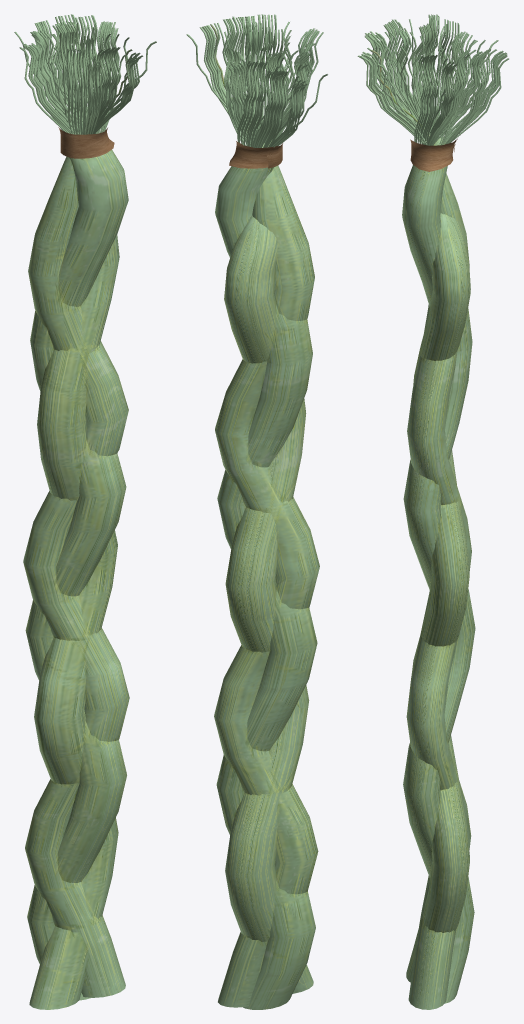
Rendered from sweet_grass.gltf.
3 renders of one model, left to right at view 1: azimuth 30°, elevation 25°; view 2: azimuth 210°, elevation 25°; view 3: azimuth 270°, elevation 25°, orthographic.
Visible parts, largest first — view 1: nurbsToPoly1, group8_nurbsToPoly26, pPlane1; view 2: nurbsToPoly1, group8_nurbsToPoly26, pPlane1; view 3: nurbsToPoly1, group8_nurbsToPoly26, pPlane1.
Part boxes in pixels (box(x1,y1,x2,y2)): nurbsToPoly1: box(23, 149, 129, 1009); group8_nurbsToPoly26: box(14, 14, 156, 134); pPlane1: box(58, 127, 114, 158); nurbsToPoly1: box(214, 141, 319, 1009); group8_nurbsToPoly26: box(186, 14, 327, 147); pPlane1: box(229, 141, 282, 168); nurbsToPoly1: box(402, 136, 475, 1009); group8_nurbsToPoly26: box(357, 14, 508, 145); pPlane1: box(410, 138, 457, 171).
Bounding box in the file's own units: 4.73 × 40.54 × 5.81.
Materials: 3 (3 with a texture image).
